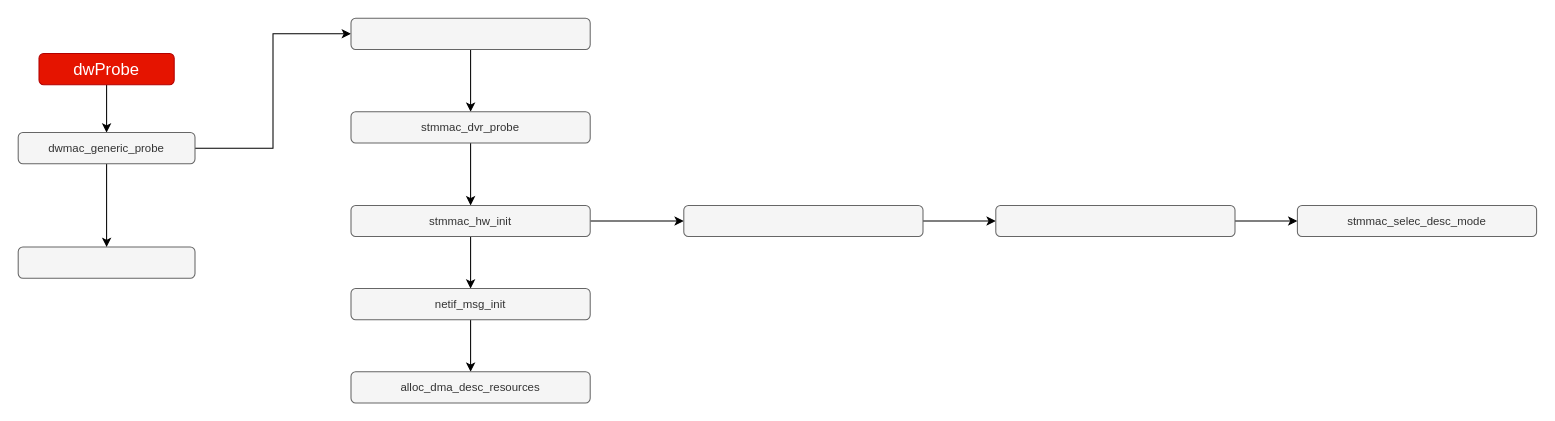
Image size: 1555x421. Some labels were removed from this diagram. Here are the shapes that lost their labels. From the top down, the box of each, then its label:
(350, 17, 590, 49): stmmac_get_platform_resources
(683, 204, 923, 237): dwmac1000_setup
(995, 204, 1235, 237): stmmac_get_hw_features
(17, 246, 195, 278): netdev_add
